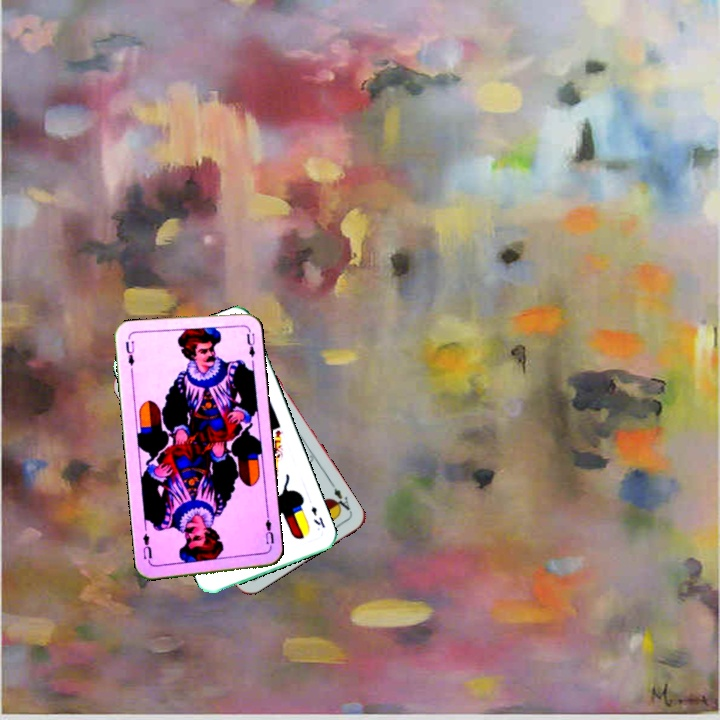EA: (327, 479, 354, 515)
EK: (307, 502, 328, 530)
EU: (261, 512, 276, 552), (121, 335, 137, 368)
